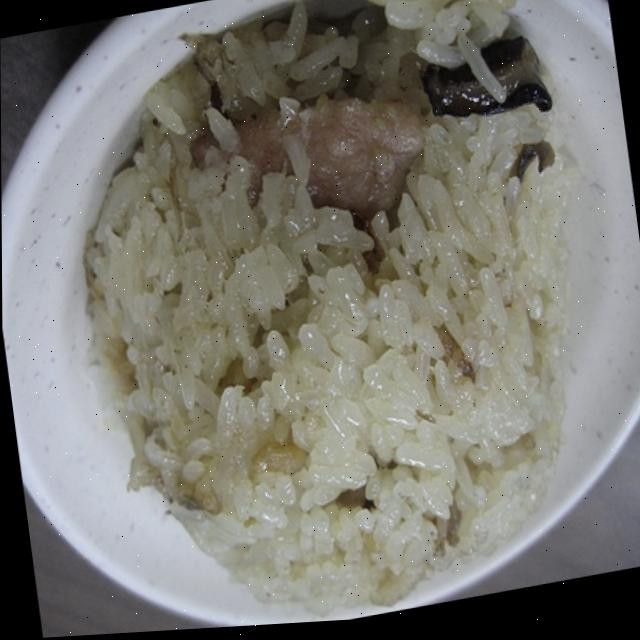米饭主食: (47, 0, 602, 633)
